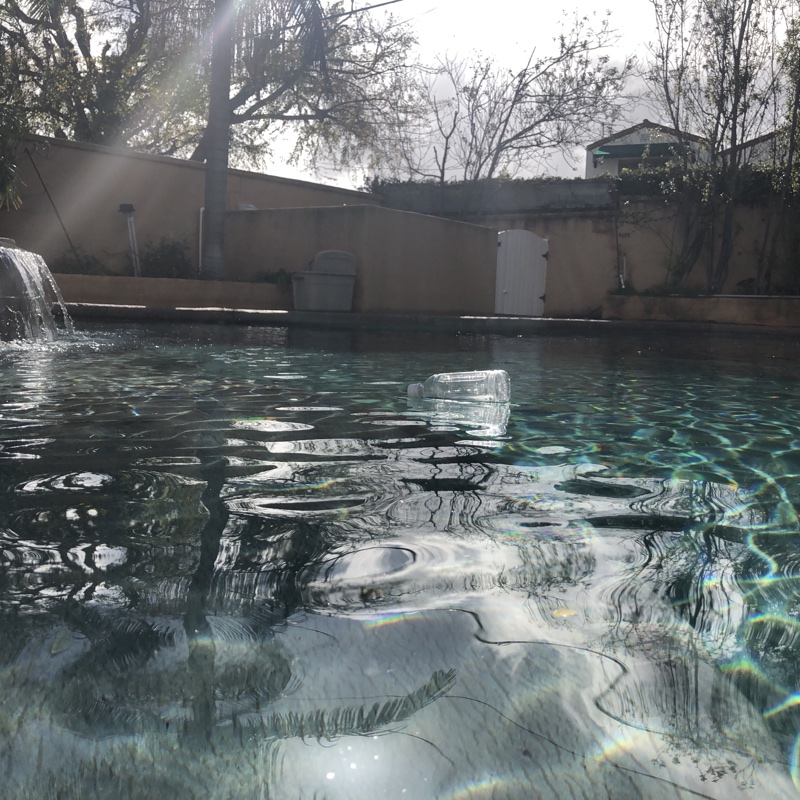Plastic Bottle: (396, 363, 516, 409)
